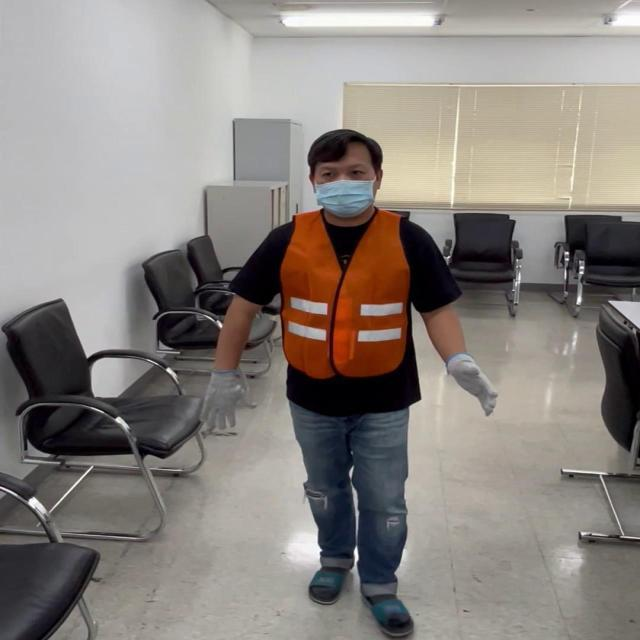gloved_hand: (443, 344, 494, 415), (201, 365, 257, 424)
